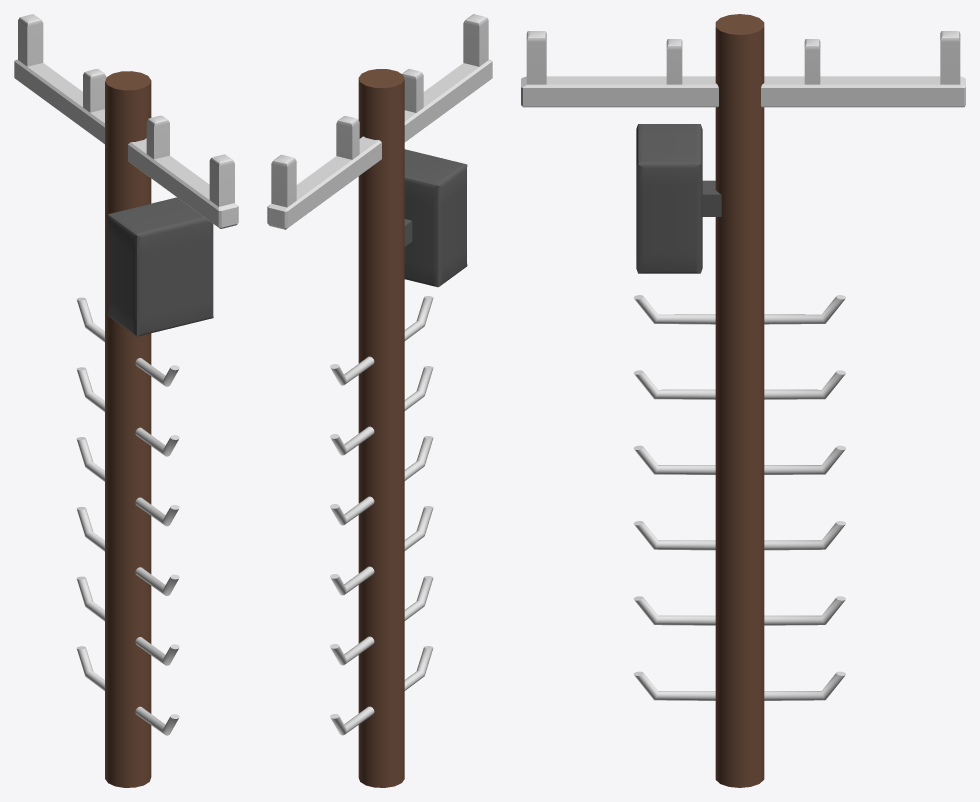
The model's file is post.fbx.
3 renders of one model, left to right at view 1: azimuth 30°, elevation 25°; view 2: azimuth 150°, elevation 25°; view 3: azimuth 270°, elevation 25°, orthographic. The views are drawn at different scales.
Visible parts, largest first — view 1: post; view 2: post; view 3: post.
Boxes of the visible parts, bbox=[...] form: post: bbox=[14, 14, 238, 787]; post: bbox=[267, 14, 492, 787]; post: bbox=[521, 14, 965, 787].
Size of the model in its own units: 60 by 500 by 268.
